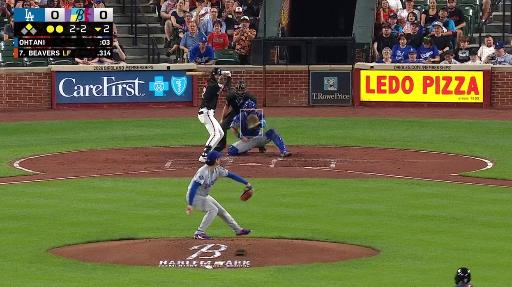pitcher: (186, 151, 260, 241)
